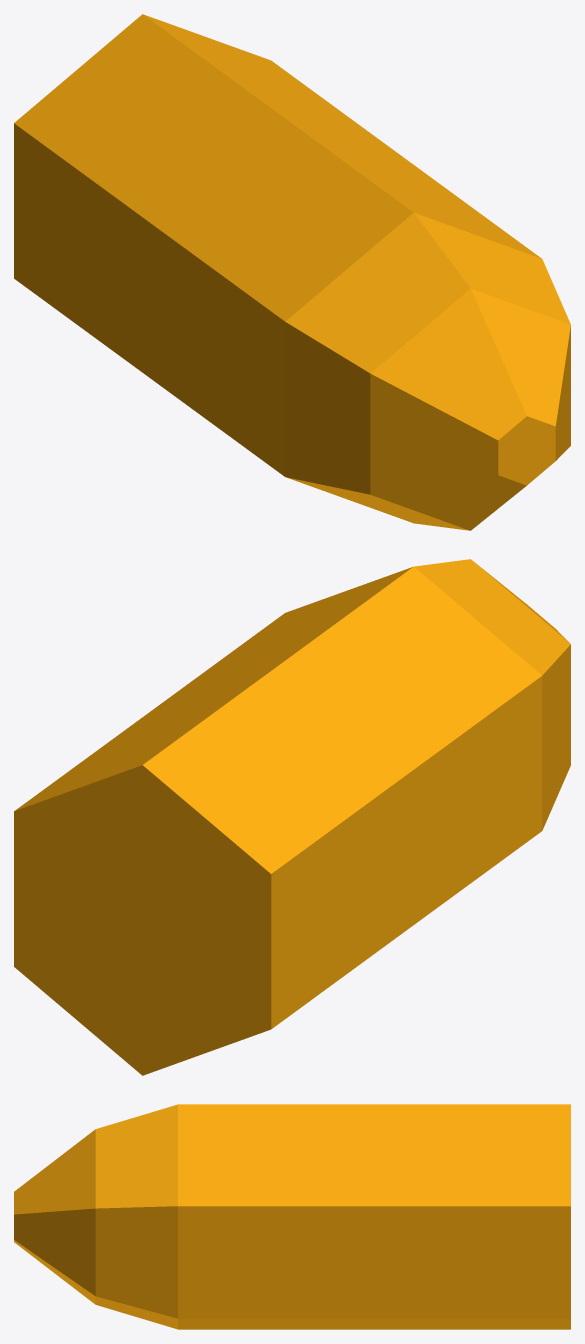
The model's file is bullet.obj.
3 renders of one model, top to bottom at view 1: azimuth 30°, elevation 25°; view 2: azimuth 150°, elevation 25°; view 3: azimuth 270°, elevation 25°, orthographic. The views are drawn at different scales.
Parts seen in each view (by area): view 1: Cylinder; view 2: Cylinder; view 3: Cylinder.
Boxes of the visible parts, x1,y1,x2,y2 form: Cylinder: (14,14,570,530); Cylinder: (14,559,570,1075); Cylinder: (14,1104,570,1329).
Size of the model in its own units: 0.0346 by 0.04 by 0.0897.
